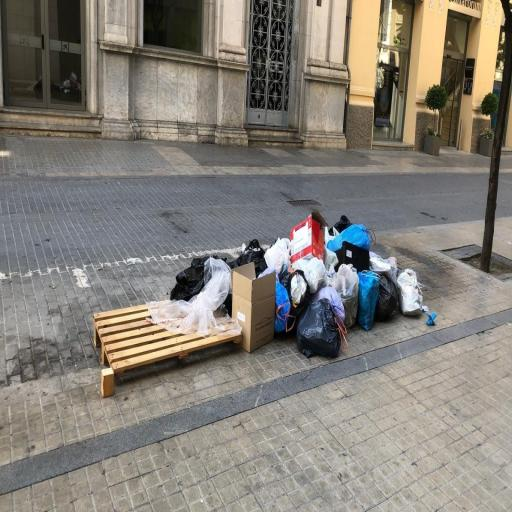Detector-de-basura: (94, 211, 423, 396)
